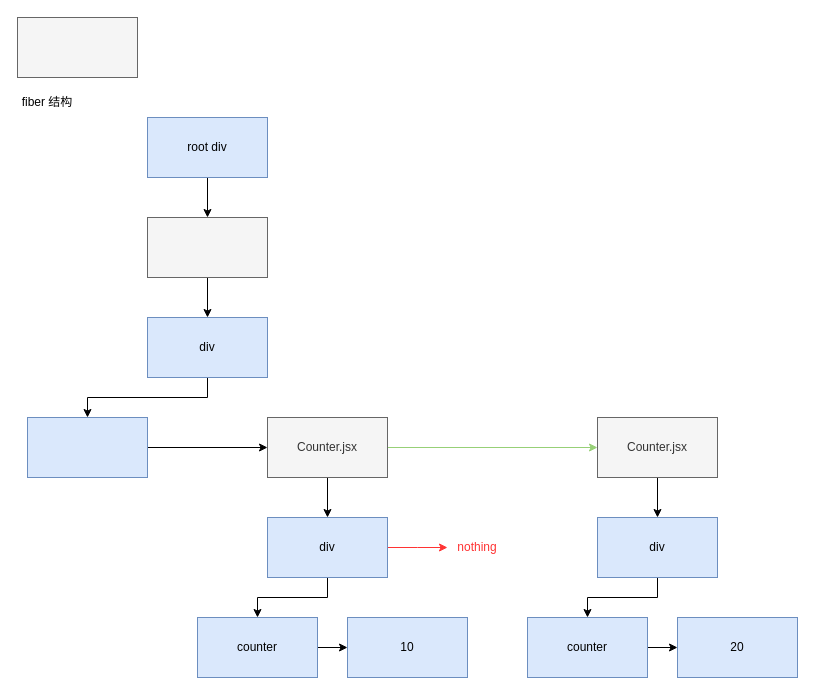
The diagram is 815 pixels wide and 695 high, and some of its shapes have lost their labels. The shapes that lost their labels are listed below. From the top down, each one's centre as x and y in pixels, then its label:
point 77,47: 函数组件 （dom = null）
point 207,247: App.jsx
point 87,447: hello
